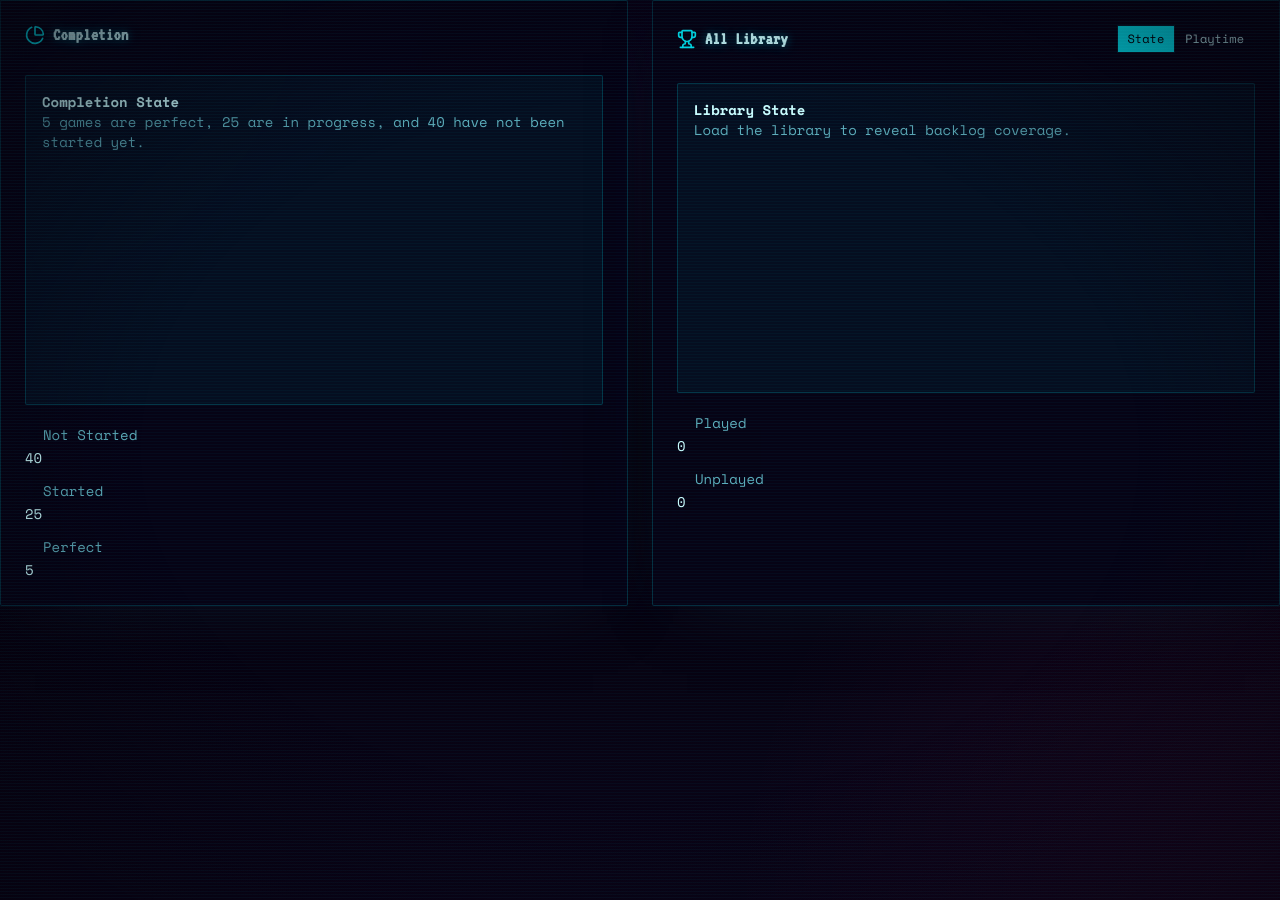
Test: DashboardInsights › shows the playtime-bands placeholder when the library is empty
The width and height of the screenshot is (1280, 900).
Click the radio button labelled "Playtime" at (1215, 39), box [1175, 25, 1255, 53]
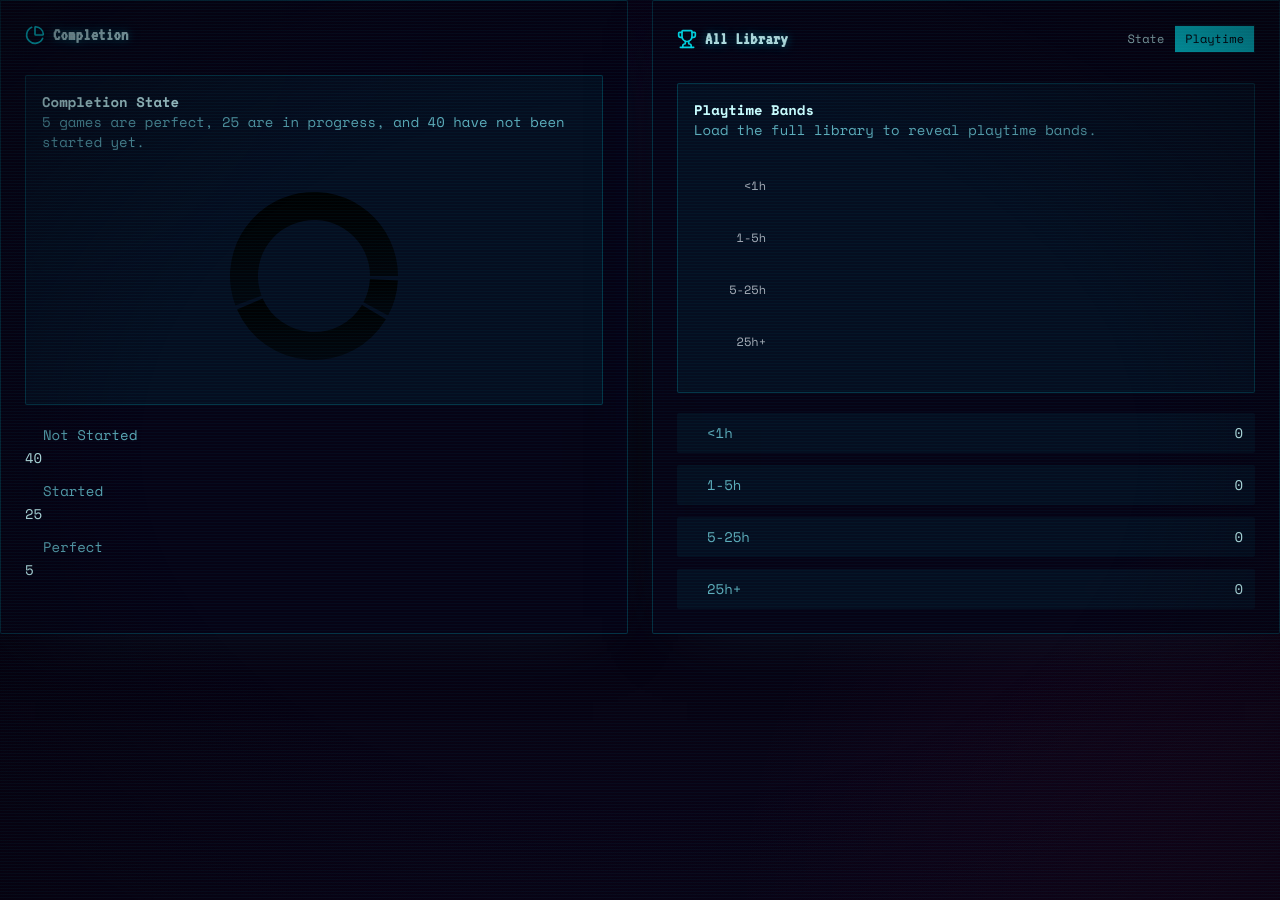
expect the text "Load the full library to reveal playtime bands." is shown: met, box [694, 119, 1097, 140]
